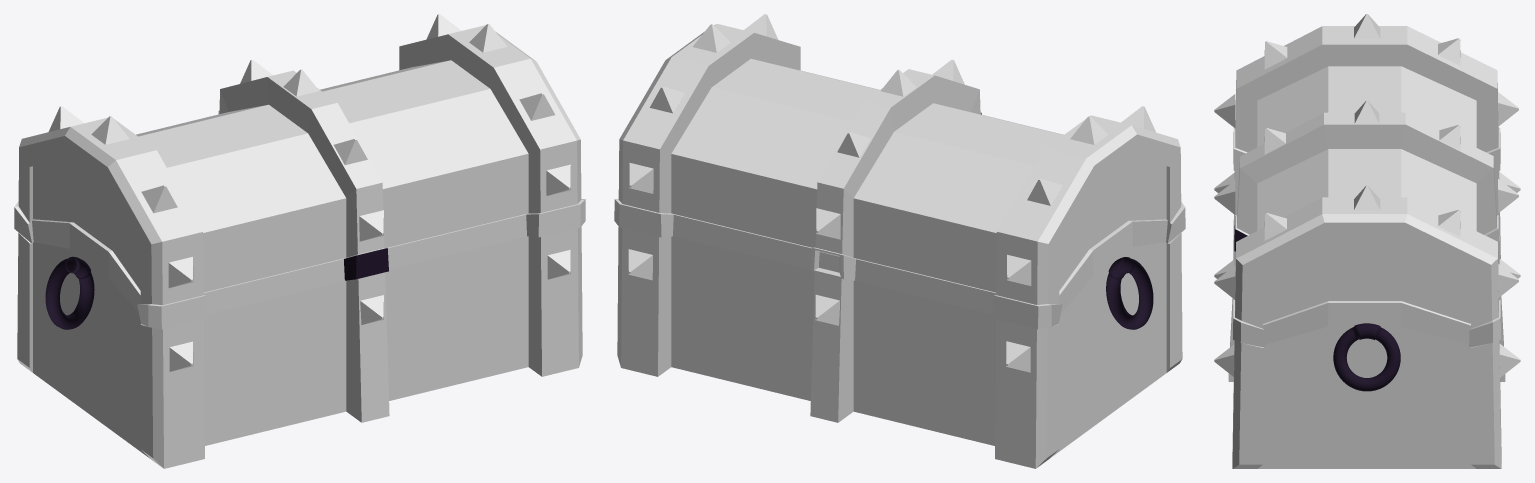
The model's file is cofre.fbx.
The picture shows the model from 3 angles, left to right: view 1: azimuth 30°, elevation 25°; view 2: azimuth 150°, elevation 25°; view 3: azimuth 270°, elevation 25°; orthographic projection. The views are drawn at different scales.
Parts seen in each view (by area): view 1: cofre; view 2: cofre; view 3: cofre.
Boxes of the visible parts, bbox=[...] form: cofre: bbox=[14, 14, 585, 468]; cofre: bbox=[614, 14, 1185, 468]; cofre: bbox=[1214, 14, 1520, 468].
Size of the model in its own units: 162 by 94.36 by 95.31.
